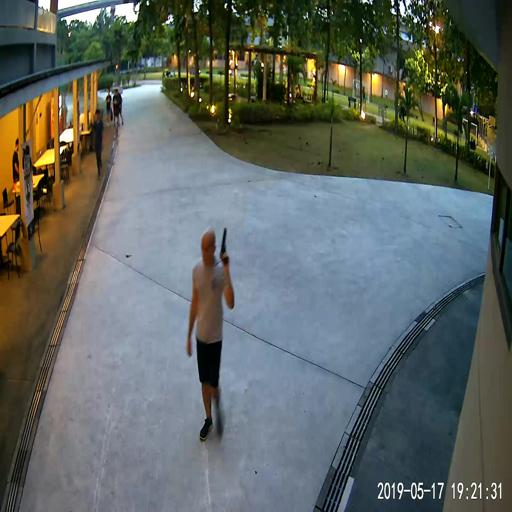pistol: (219, 227, 228, 265)
